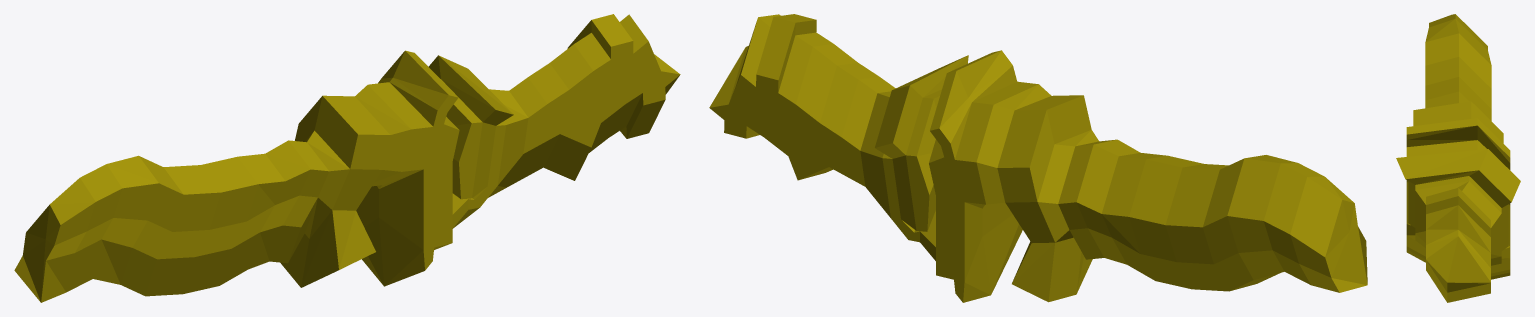
File: STATUE2.obj
3 renders of one model, left to right at view 1: azimuth 30°, elevation 25°; view 2: azimuth 150°, elevation 25°; view 3: azimuth 270°, elevation 25°, orthographic. The views are drawn at different scales.
Parts seen in each view (by area): view 1: Cube.762_Cube.958; view 2: Cube.762_Cube.958; view 3: Cube.762_Cube.958.
Boxes of the visible parts, x1,y1,x2,y2 form: Cube.762_Cube.958: [14, 14, 680, 302]; Cube.762_Cube.958: [709, 14, 1367, 302]; Cube.762_Cube.958: [1396, 14, 1520, 302].
Size of the model in its own units: 4.16 by 1.41 by 0.8984.
